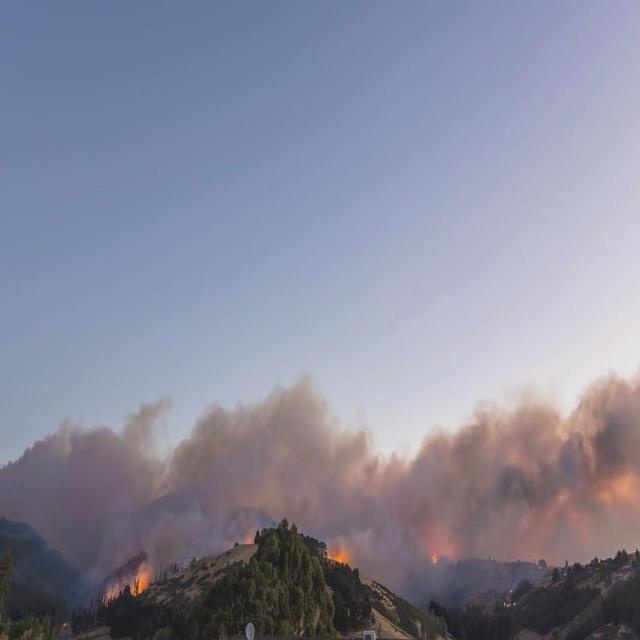Fire: (130, 572, 148, 594), (328, 552, 345, 564), (431, 550, 437, 566)
